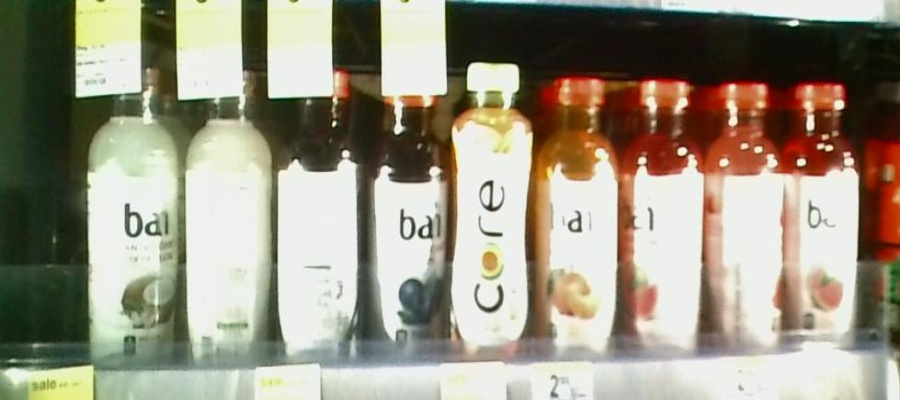bottle: (84, 64, 181, 368), (276, 68, 366, 369), (185, 71, 271, 368), (454, 49, 535, 363), (539, 56, 620, 364), (370, 71, 452, 371), (622, 57, 702, 360), (783, 65, 861, 354), (710, 62, 781, 358)
